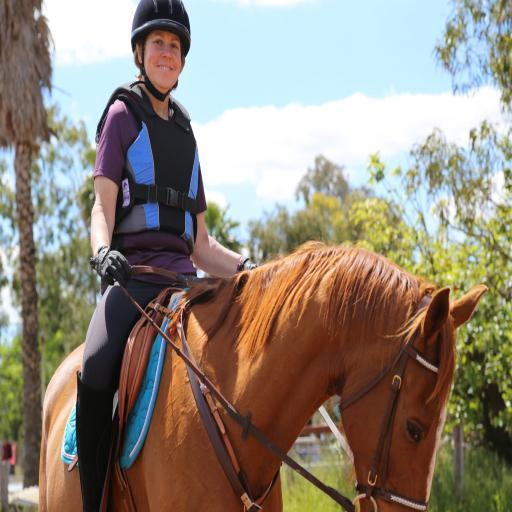horse: (38, 240, 490, 512)
